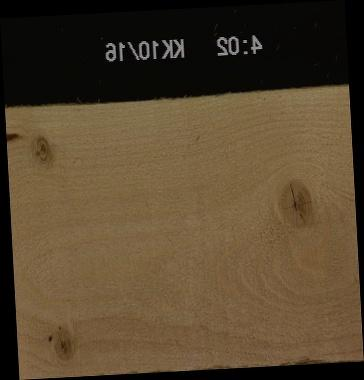sound_knot: (278, 176, 312, 227), (52, 325, 79, 361), (33, 133, 51, 162)
